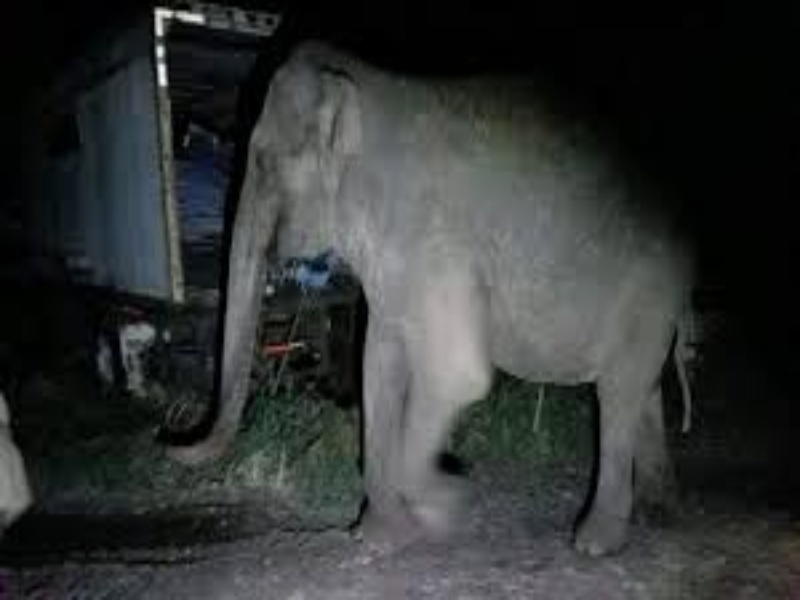elephant: (168, 25, 715, 561)
